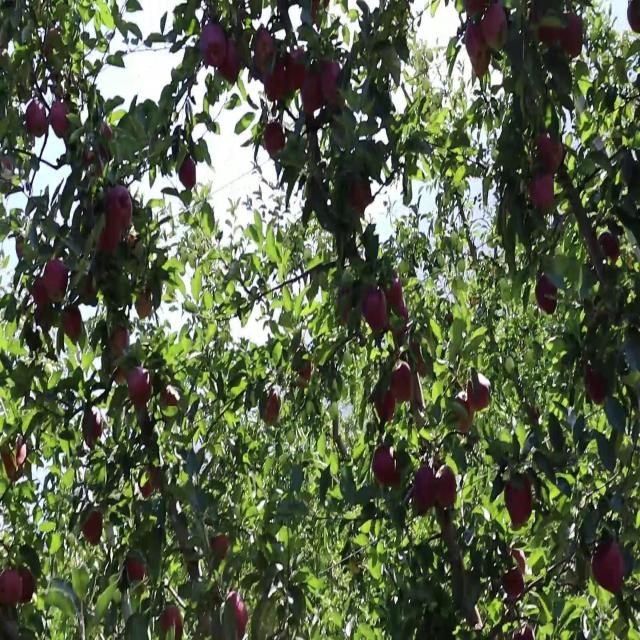apple: (592, 540, 627, 596), (504, 476, 533, 532), (252, 28, 278, 82), (320, 56, 344, 114), (532, 7, 561, 52), (200, 21, 226, 71), (108, 184, 133, 235), (88, 120, 113, 171), (44, 255, 70, 304), (220, 35, 245, 85), (364, 284, 388, 336), (536, 135, 565, 176), (532, 170, 556, 219), (264, 56, 288, 105), (484, 7, 510, 52), (412, 469, 436, 517), (300, 71, 324, 119), (504, 554, 528, 601), (560, 14, 585, 59), (584, 362, 609, 407), (4, 440, 28, 484), (372, 447, 397, 489), (84, 142, 111, 180), (128, 369, 152, 411), (348, 177, 373, 217), (392, 362, 415, 405), (228, 590, 248, 639), (24, 99, 48, 139), (264, 120, 288, 160), (536, 277, 560, 316), (468, 376, 492, 414), (388, 298, 409, 341), (288, 49, 308, 94), (436, 469, 457, 510), (52, 99, 73, 140), (452, 398, 474, 437), (336, 284, 355, 327), (0, 568, 20, 608), (64, 305, 84, 345), (464, 21, 485, 59), (108, 327, 131, 361), (44, 28, 64, 66), (84, 511, 104, 548), (376, 391, 396, 427), (84, 412, 104, 448), (164, 604, 184, 639), (140, 469, 162, 500), (600, 234, 621, 265), (80, 270, 98, 306), (32, 277, 52, 309), (384, 277, 404, 308), (472, 49, 492, 80), (540, 21, 560, 52), (180, 156, 197, 192), (264, 391, 281, 427), (412, 348, 431, 379), (128, 554, 148, 583), (100, 227, 120, 256), (296, 355, 313, 389), (20, 568, 36, 604), (100, 120, 113, 164), (212, 533, 231, 560), (136, 291, 153, 320), (464, 0, 487, 21), (36, 305, 53, 331), (628, 0, 640, 36), (312, 0, 327, 27), (160, 391, 179, 411), (52, 78, 67, 101), (392, 469, 402, 492), (116, 369, 129, 386), (16, 241, 25, 261), (128, 234, 137, 251), (4, 156, 13, 172)
